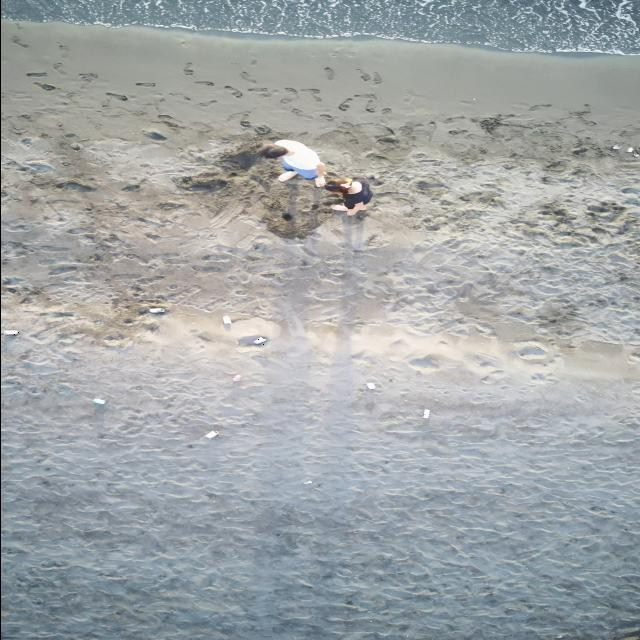Garbage: (239, 333, 267, 344), (252, 335, 266, 344), (3, 328, 19, 335), (70, 141, 80, 150), (148, 307, 164, 312), (93, 397, 104, 403), (223, 315, 230, 324), (204, 431, 218, 435), (232, 373, 240, 380), (367, 382, 375, 388), (423, 408, 428, 417), (632, 151, 639, 156), (611, 144, 619, 148), (303, 480, 312, 483), (627, 147, 632, 151), (472, 96, 475, 100)
